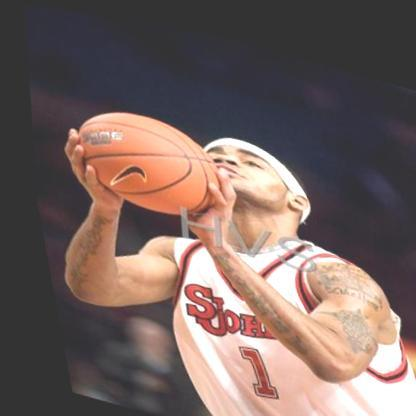basketball: (58, 91, 229, 224)
